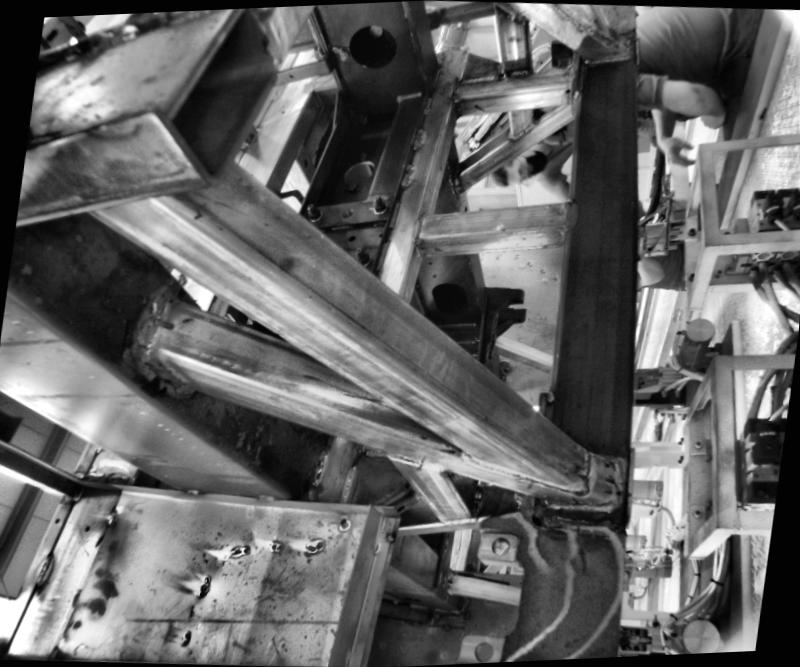bolt: (367, 191, 387, 214), (303, 198, 324, 219), (350, 244, 370, 265)
bracket: (471, 277, 530, 371)
hole: (346, 20, 398, 70), (427, 277, 474, 318), (339, 157, 374, 185), (473, 640, 495, 661), (489, 536, 512, 555), (151, 314, 175, 332), (336, 204, 354, 218), (604, 473, 615, 484), (82, 522, 92, 533), (347, 232, 357, 240), (418, 242, 428, 250), (54, 515, 61, 524), (564, 86, 570, 92), (429, 261, 433, 266), (438, 164, 441, 170), (378, 231, 382, 235), (431, 272, 435, 276), (464, 204, 466, 209)
welding: (140, 291, 174, 361), (538, 494, 628, 516), (612, 457, 629, 512), (34, 550, 54, 587), (580, 444, 594, 496), (560, 200, 578, 228), (400, 161, 415, 184), (180, 485, 202, 500), (412, 213, 423, 242), (252, 492, 277, 503), (411, 127, 424, 148), (422, 94, 432, 114), (107, 510, 118, 522)
